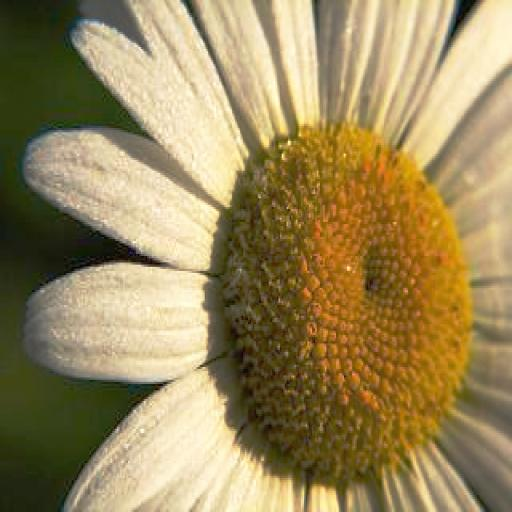daisy: (4, 0, 512, 510)
